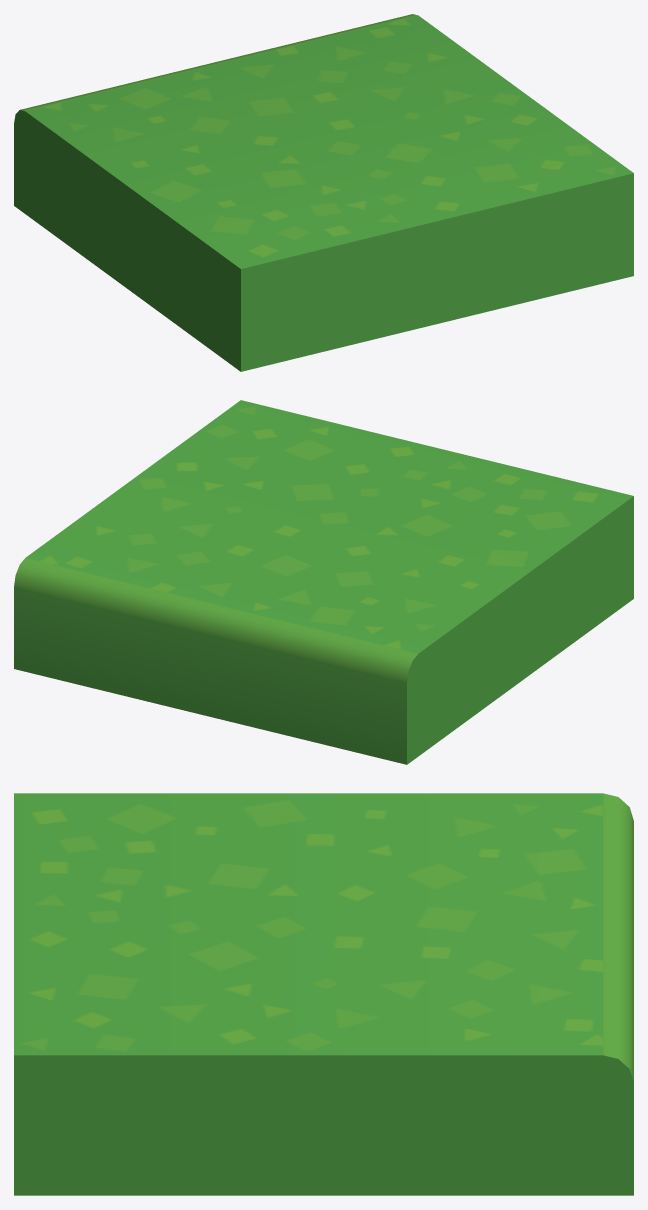
Rendered from floor_grass_sliced_B.glb.
3 views of the same model, one above another, from view 1: azimuth 30°, elevation 25°; view 2: azimuth 150°, elevation 25°; view 3: azimuth 270°, elevation 25° (orthographic). The views are drawn at different scales.
Visible parts, largest first — view 1: floor_grass_sliced_B; view 2: floor_grass_sliced_B; view 3: floor_grass_sliced_B.
Part boxes in pixels (x1=…): floor_grass_sliced_B: x1=14, y1=14, x2=633, y2=371; floor_grass_sliced_B: x1=14, y1=400, x2=633, y2=764; floor_grass_sliced_B: x1=14, y1=793, x2=633, y2=1195.
Size of the model in its own units: 2 by 0.5 by 2.
Materials: 1 (1 with a texture image).
